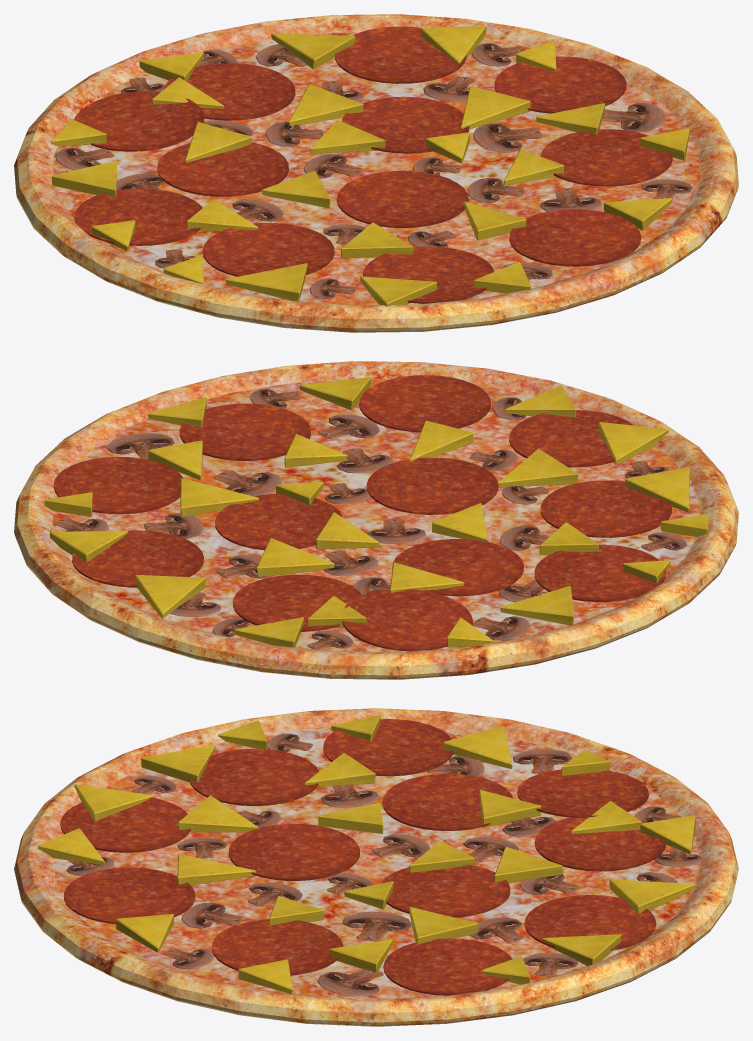
Rendered from Pizza.fbx.
3 views of the same model, one above another, from view 1: azimuth 30°, elevation 25°; view 2: azimuth 150°, elevation 25°; view 3: azimuth 270°, elevation 25° (orthographic).
Visible parts, largest first — view 1: PizzaBase, Pepperoni, Pineapple, Mushrooms; view 2: PizzaBase, Pepperoni, Pineapple, Mushrooms; view 3: PizzaBase, Pepperoni, Pineapple, Mushrooms.
Boxes of the visible parts, x1=… form: PizzaBase: x1=14, y1=14, x2=738, y2=332; Pepperoni: x1=74, y1=26, x2=672, y2=303; Pineapple: x1=51, y1=26, x2=689, y2=306; Mushrooms: x1=55, y1=43, x2=692, y2=298; PizzaBase: x1=14, y1=361, x2=738, y2=679; Pepperoni: x1=53, y1=375, x2=671, y2=651; Pineapple: x1=44, y1=377, x2=708, y2=647; Mushrooms: x1=54, y1=389, x2=686, y2=649; PizzaBase: x1=14, y1=708, x2=738, y2=1026; Pepperoni: x1=60, y1=719, x2=666, y2=995; Pineapple: x1=38, y1=715, x2=695, y2=993; Mushrooms: x1=66, y1=733, x2=701, y2=996.
Size of the model in its own units: 70.64 by 2.5 by 70.64.
1 material, 1 textured.
